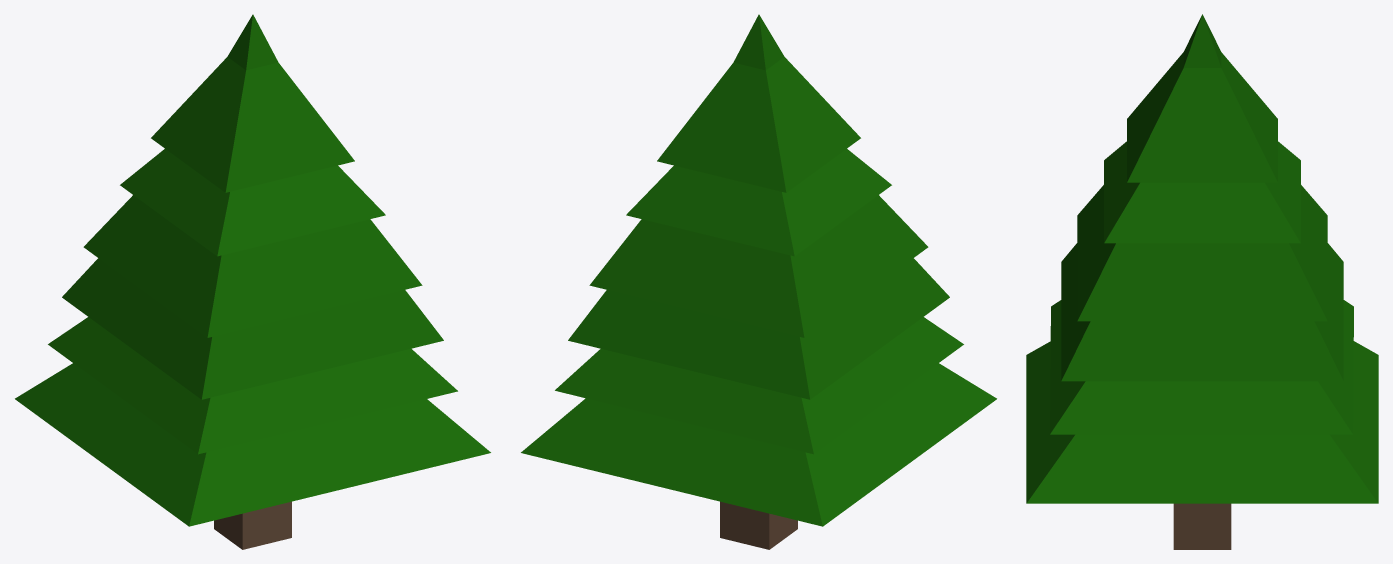
Rendered from TREE_V5.fbx.
The picture shows the model from 3 angles, left to right: view 1: azimuth 30°, elevation 25°; view 2: azimuth 150°, elevation 25°; view 3: azimuth 270°, elevation 25°; orthographic projection.
Parts seen in each view (by area): view 1: Cube; view 2: Cube; view 3: Cube.
Part boxes in pixels (x1,y1,x2,y2): Cube: (15,14,490,549); Cube: (521,14,996,549); Cube: (1026,14,1378,549).
Bounding box in the file's own units: 141 × 232 × 141.
